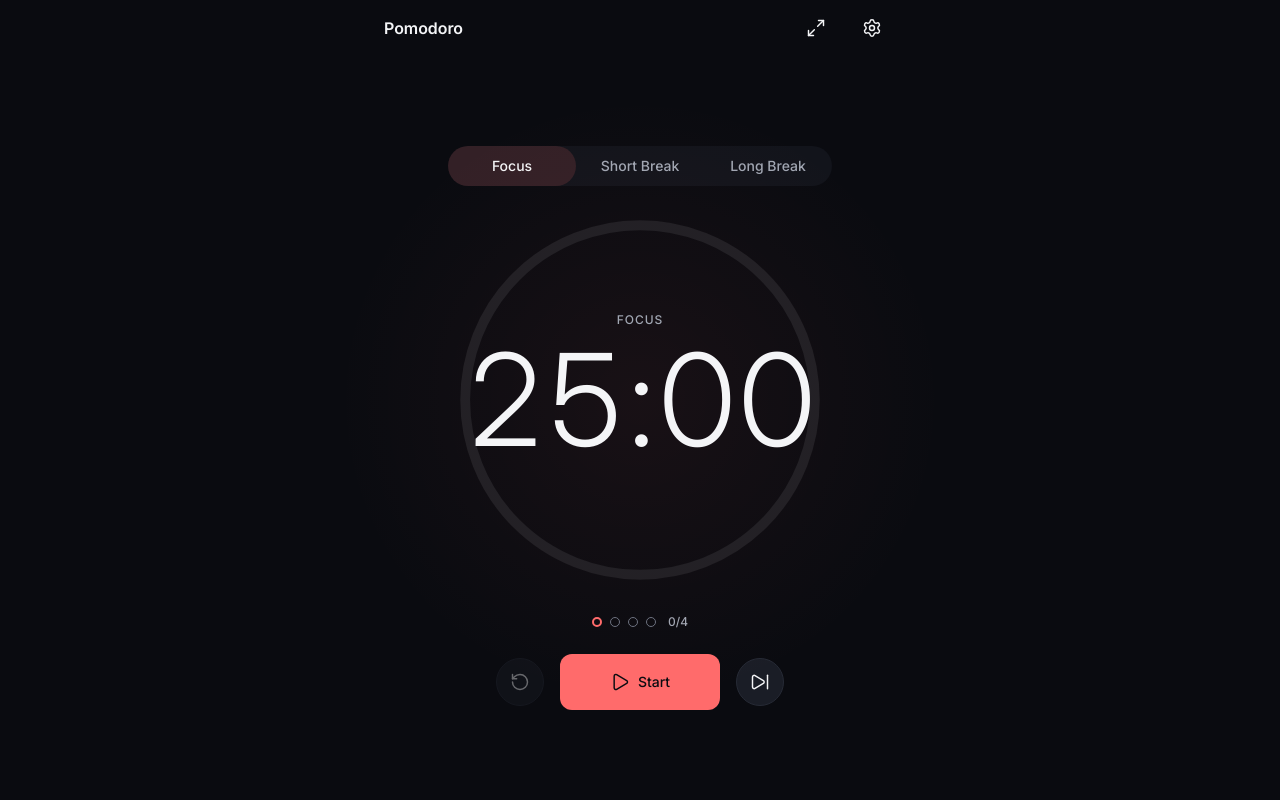
Scenario: Focus mode (POMO-AC17, POMO-E7, POMO-AC24) › overlay fallback (no Fullscreen API) › opens a modal view with phase, digits, controls and Exit; focus lands on the primary
Click the button named "Enter focus mode" at (816, 28), box [792,4,840,52]
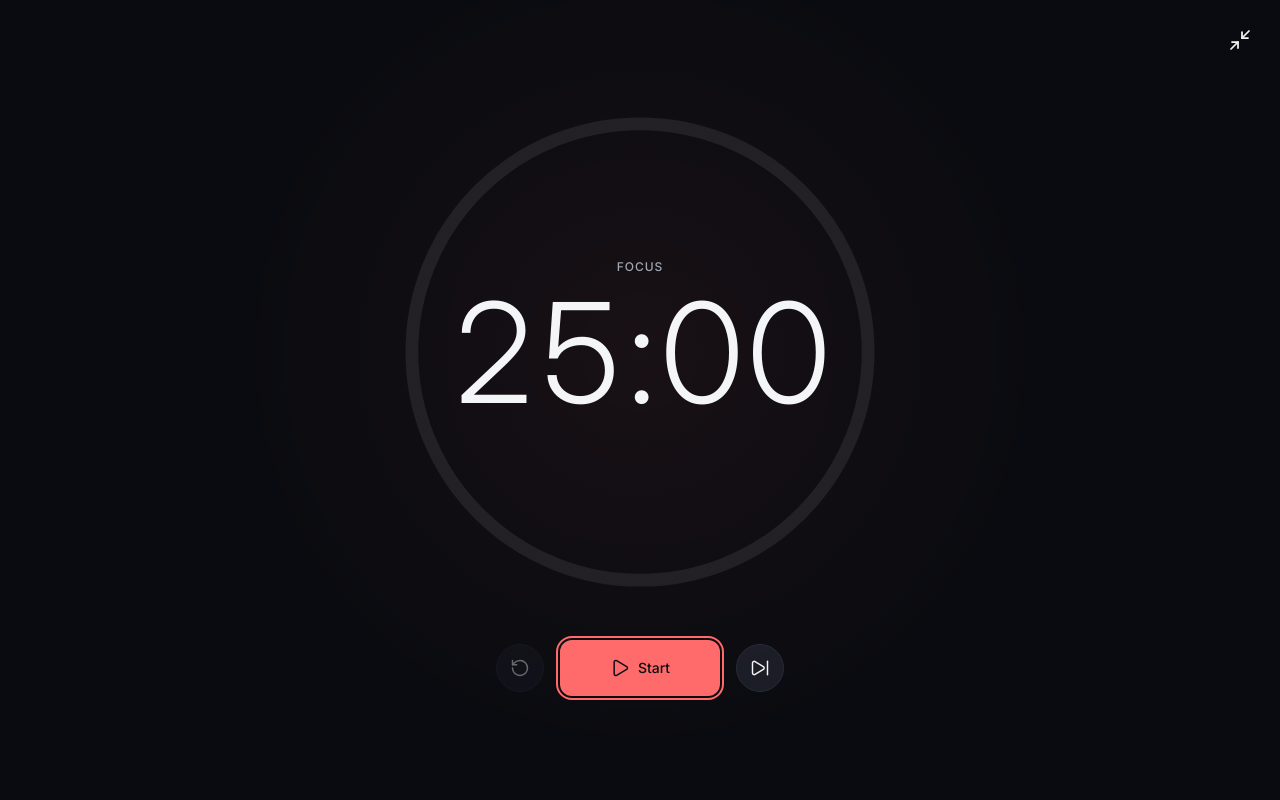
Expected: the dialog named "Focus mode" shows "Focus", [617,259,663,274]
Expected: the dialog named "Focus mode" shows "25:00", [449,268,831,436]
Expected: the text "25:00" is shown, [449,283,831,422]
